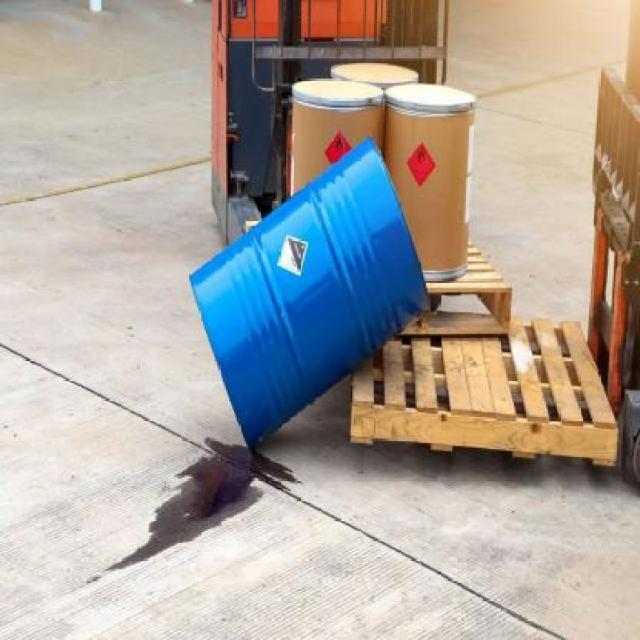spillage: (134, 438, 300, 559)
